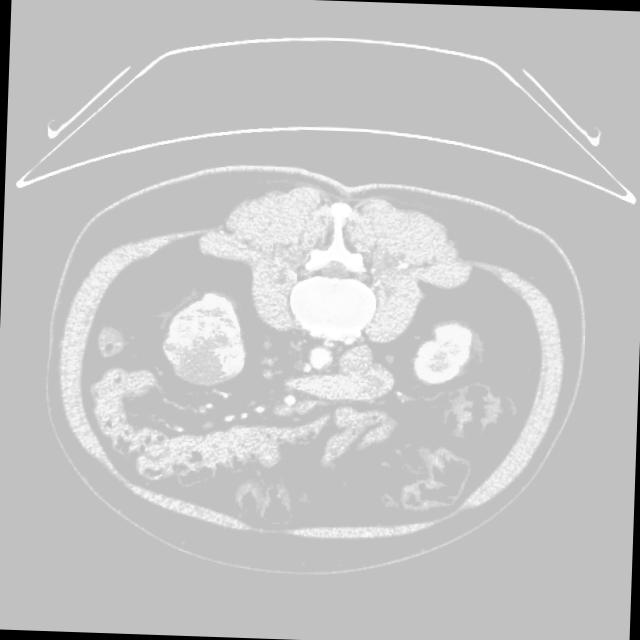TUMOR: (118, 309, 521, 483)
